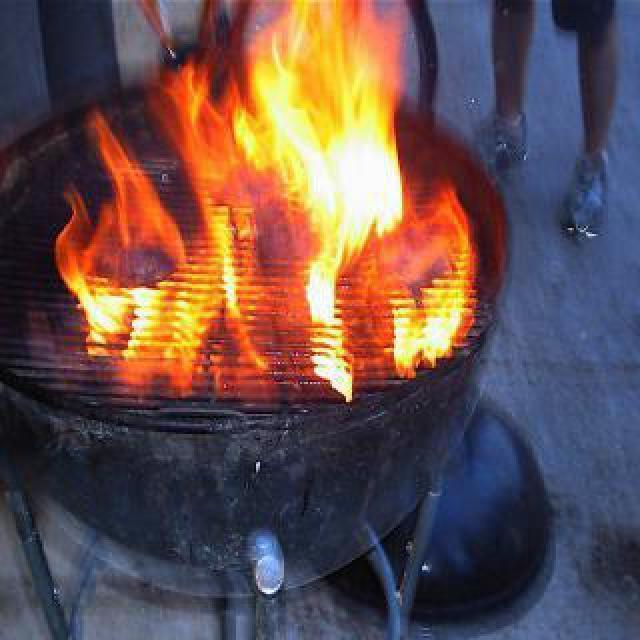Fire: (42, 2, 460, 382)
